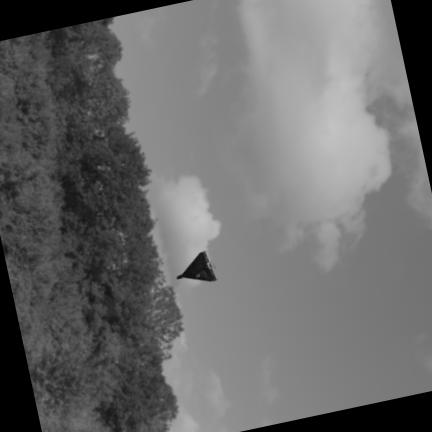Shahed: (177, 252, 216, 280)
